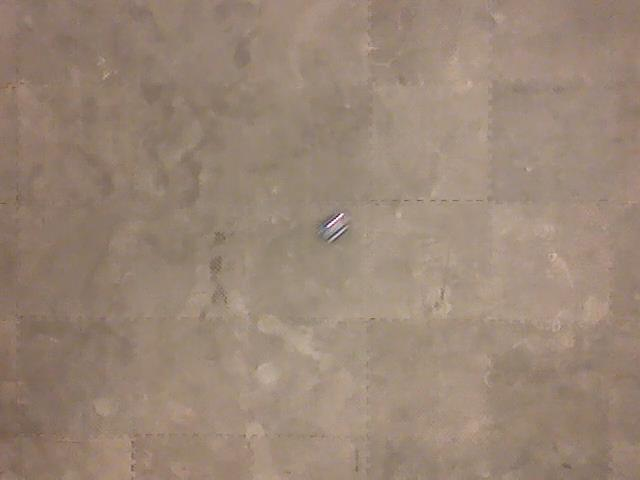Agent: (316, 210, 353, 243)
